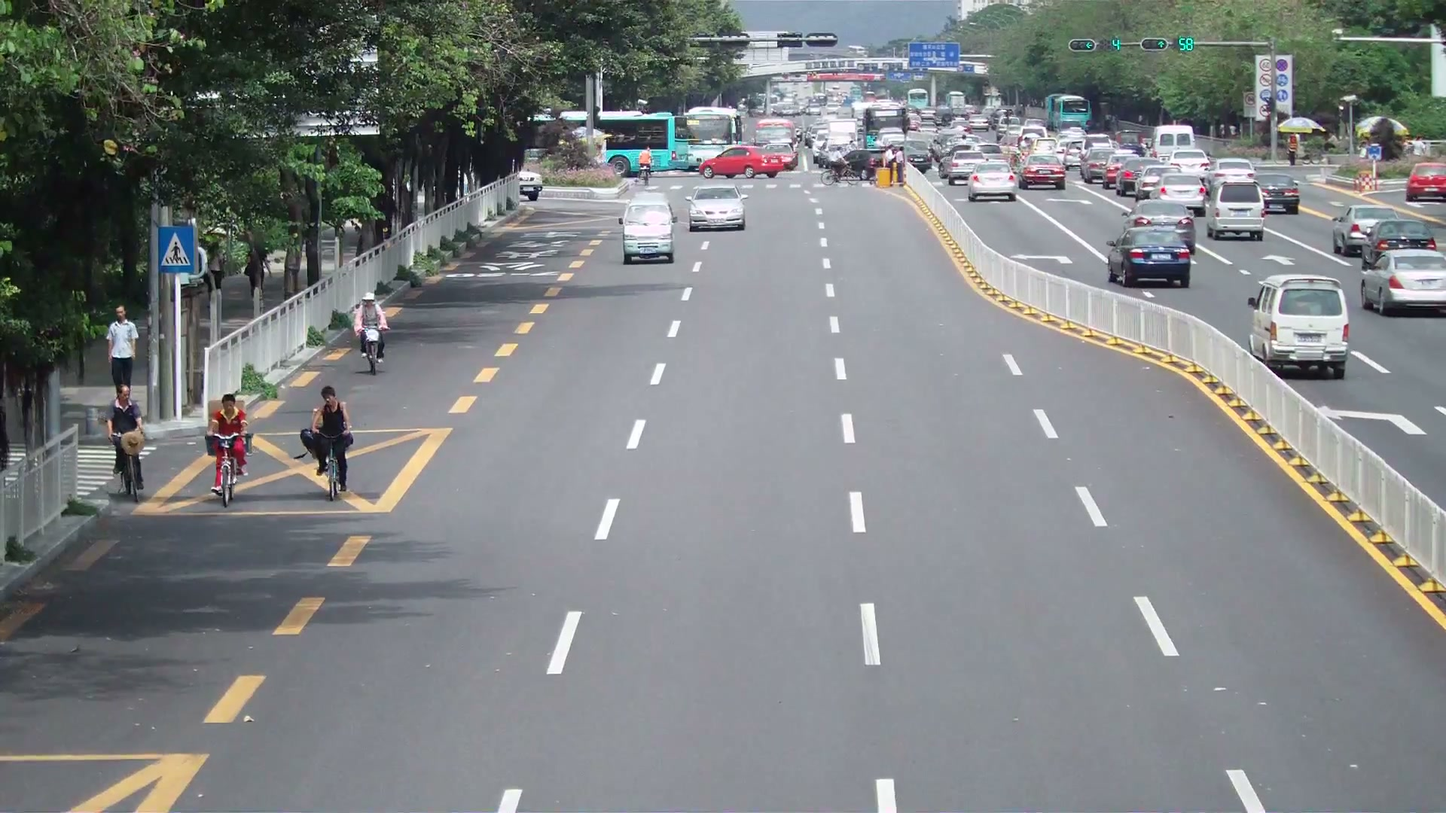bus: (1043, 93, 1090, 133)
car: (1245, 273, 1353, 378), (1359, 247, 1445, 317), (1105, 227, 1193, 288), (1205, 179, 1266, 242), (1331, 202, 1399, 257), (621, 196, 675, 263), (687, 187, 747, 231), (968, 165, 1020, 202), (1404, 160, 1445, 204), (1021, 151, 1067, 189), (1256, 177, 1302, 215), (519, 172, 543, 201)
pedestrian: (306, 386, 354, 497), (207, 393, 250, 502), (107, 383, 147, 497), (321, 389, 353, 500), (104, 304, 140, 398), (352, 291, 390, 365)
truck: (1206, 178, 1265, 241)
